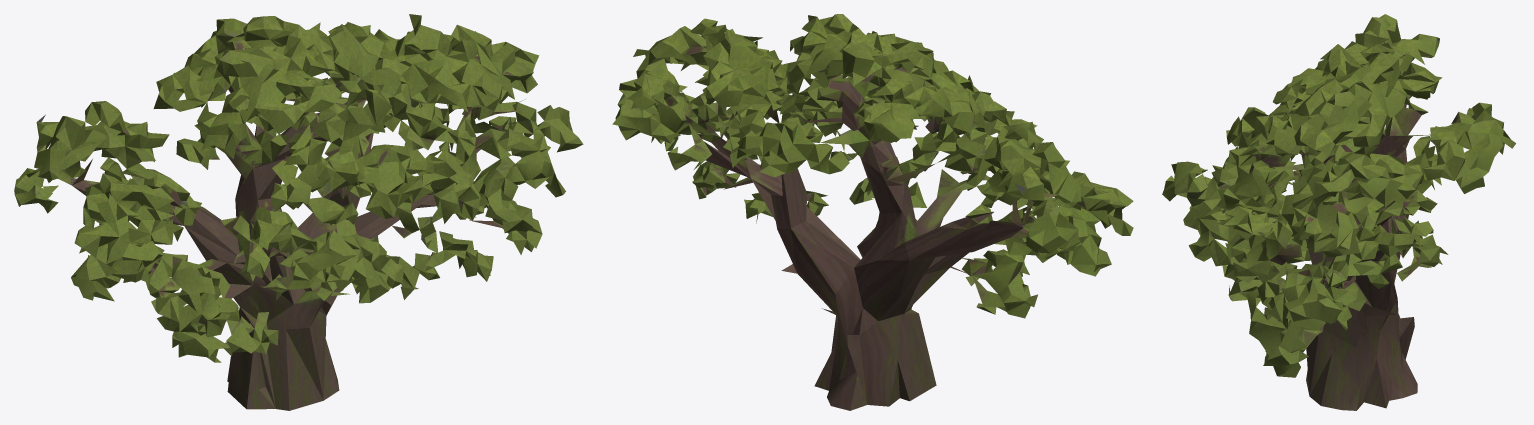
Rendered from treeCrown.glb.
The picture shows the model from 3 angles, left to right: view 1: azimuth 30°, elevation 25°; view 2: azimuth 150°, elevation 25°; view 3: azimuth 270°, elevation 25°; orthographic projection. The views are drawn at different scales.
Size of the model in its own units: 1.86 by 1.26 by 1.22.
1 material, 1 textured.
